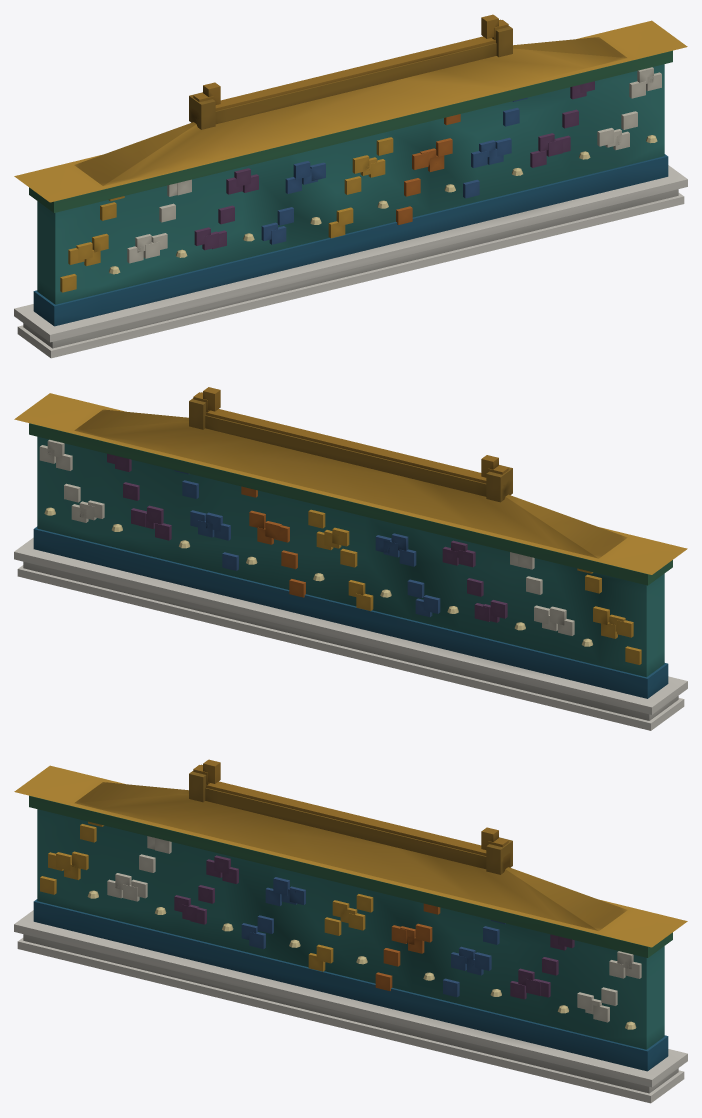
Rendered from nine-dragon-wall.glb.
3 views of the same model, one above another, from view 1: azimuth 30°, elevation 25°; view 2: azimuth 150°, elevation 25°; view 3: azimuth 330°, elevation 25° (orthographic).
Parts seen in each view (by area): view 1: p1_dragons, p2_roof, p0_base; view 2: p1_dragons, p2_roof, p0_base; view 3: p1_dragons, p2_roof, p0_base.
Part boxes in pixels (box(x1,y1,x2,y2)): p1_dragons: box(37, 64, 664, 304); p2_roof: box(14, 14, 687, 212); p0_base: box(14, 154, 687, 358); p1_dragons: box(37, 436, 664, 677); p2_roof: box(14, 387, 687, 585); p0_base: box(14, 526, 687, 730); p1_dragons: box(37, 809, 664, 1049); p2_roof: box(14, 759, 687, 957); p0_base: box(14, 899, 687, 1103).
Size of the model in its own units: 26.6 by 8.65 by 2.6.
